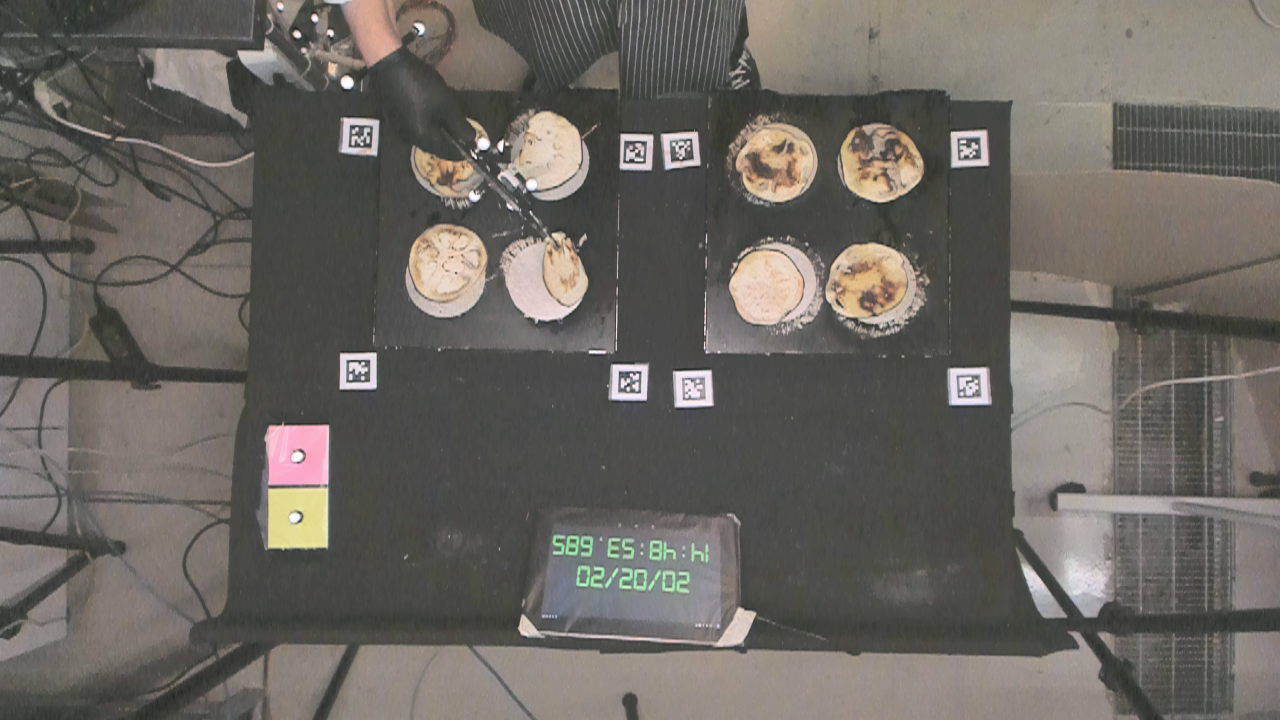eggplant: (838, 122, 927, 200), (727, 245, 807, 330), (731, 127, 817, 202), (407, 224, 485, 304), (510, 111, 586, 190), (829, 244, 908, 319), (419, 120, 489, 195), (541, 228, 589, 309)
marker: (267, 425, 330, 485)
